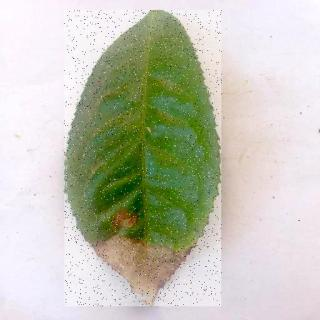Brown Blight: (66, 12, 223, 308)
